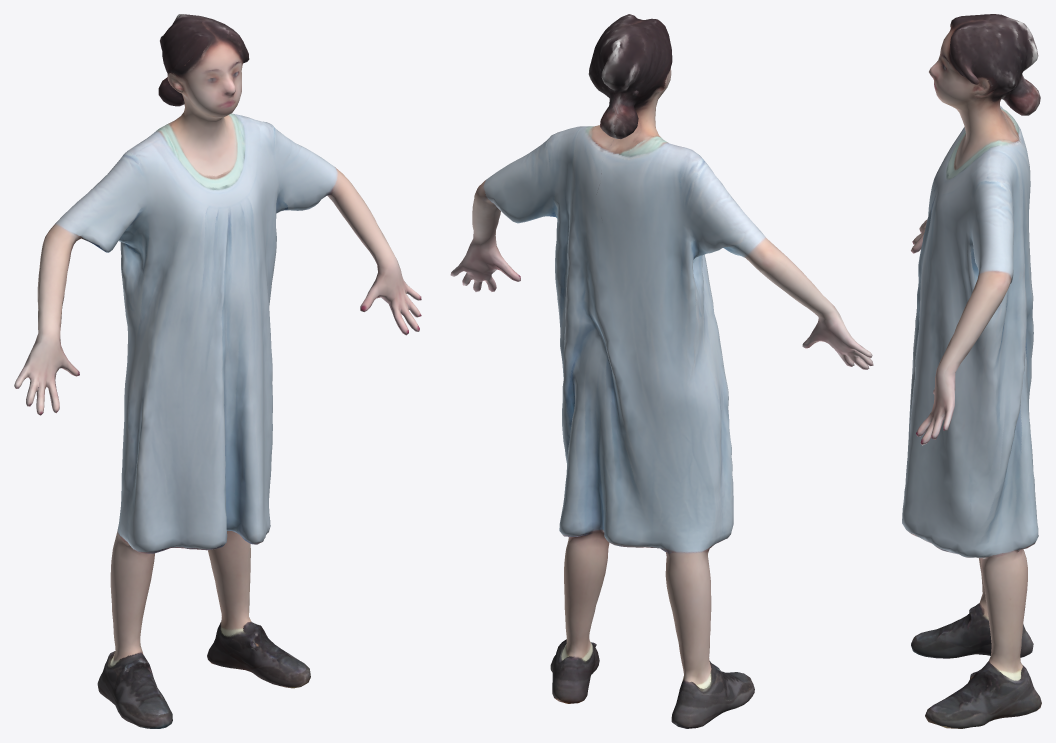
Rendered from ddc.obj.
The picture shows the model from 3 angles, left to right: view 1: azimuth 30°, elevation 25°; view 2: azimuth 150°, elevation 25°; view 3: azimuth 270°, elevation 25°; orthographic projection.
Bounding box in the file's own units: 1046 × 1613 × 306.
1 material, 1 textured.
